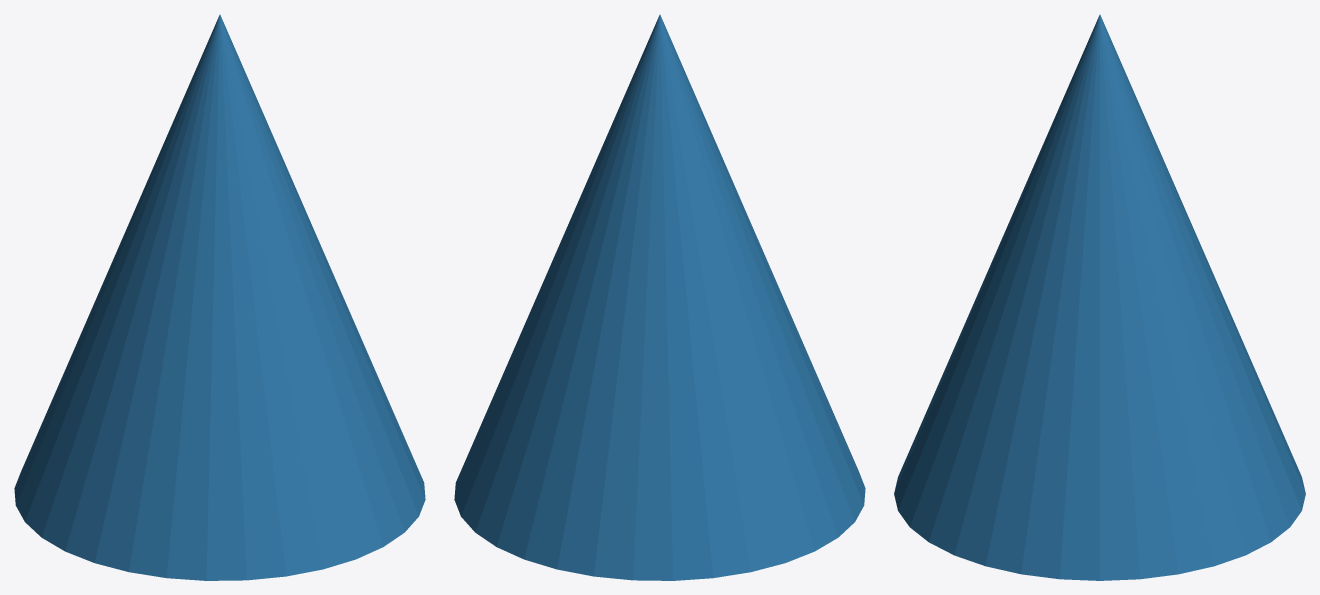
Rendered from sample_cone.obj.
The picture shows the model from 3 angles, left to right: view 1: azimuth 30°, elevation 25°; view 2: azimuth 150°, elevation 25°; view 3: azimuth 270°, elevation 25°; orthographic projection.
Parts seen in each view (by area): view 1: P2_Cone; view 2: P2_Cone; view 3: P2_Cone.
Part boxes in pixels (box(x1,y1,x2,y2)): P2_Cone: box(14, 14, 425, 580); P2_Cone: box(454, 14, 865, 580); P2_Cone: box(894, 14, 1305, 580).
Size of the model in its own units: 0.7 by 0.9 by 0.7.
